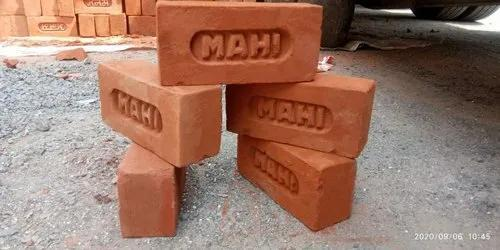brick: (158, 3, 321, 88), (226, 84, 365, 156), (97, 65, 181, 166), (237, 132, 319, 229), (119, 171, 175, 239), (28, 16, 76, 38), (75, 0, 121, 14), (1, 15, 28, 38), (129, 16, 156, 34), (78, 13, 95, 38), (0, 0, 23, 16), (110, 14, 126, 35), (95, 14, 109, 36), (24, 0, 41, 16), (58, 0, 74, 16), (41, 0, 57, 16), (125, 0, 141, 15), (141, 0, 156, 16)
